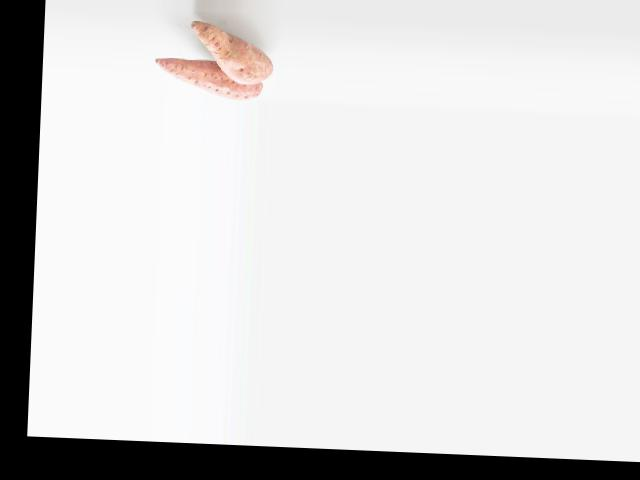sweet_potato: (160, 57, 263, 99)
